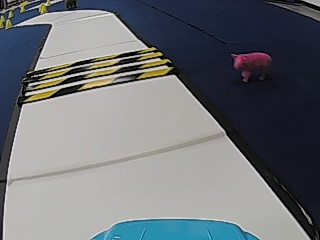bump: (38, 55, 143, 99)
